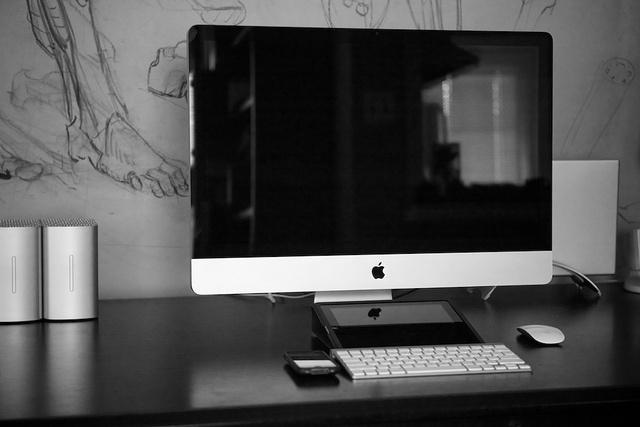AIO PC-Monitor-TV: (185, 22, 553, 295)
